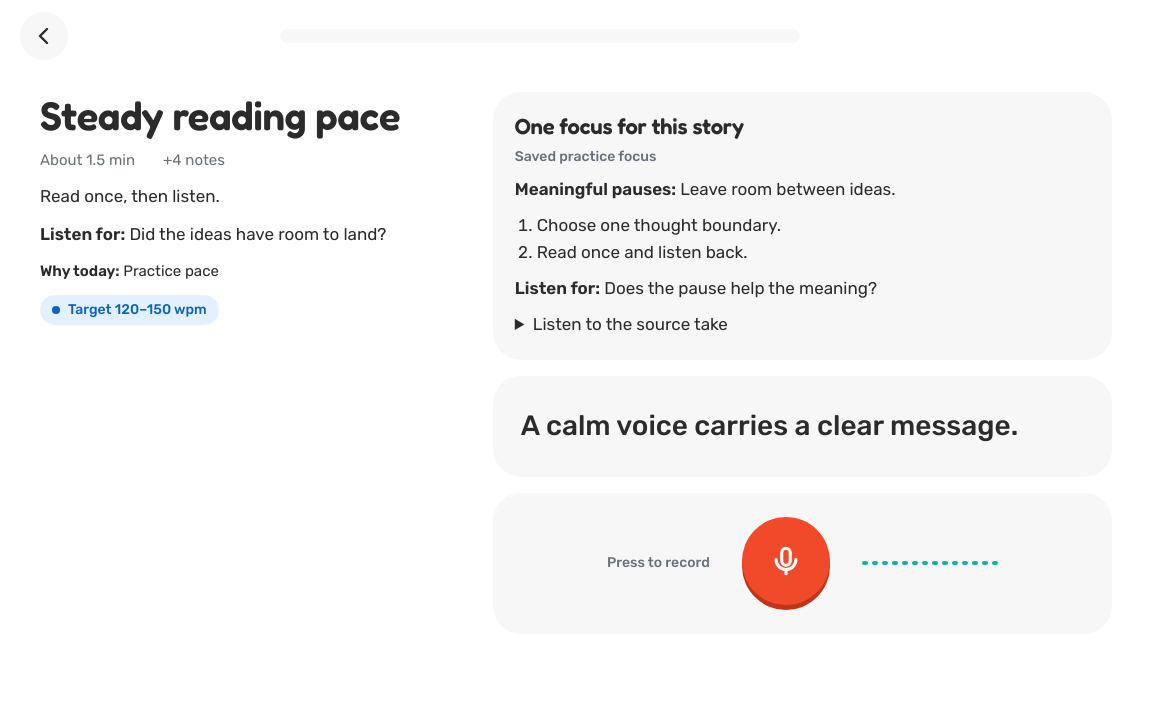
Test case: the focus shown when recording starts stays bound to that take if the active focus changes
This screenshot has width=1152, height=720.
Later steps or results of the test are not shown.
Click the button named "Start recording" at (786, 561), box [742,517,830,605]
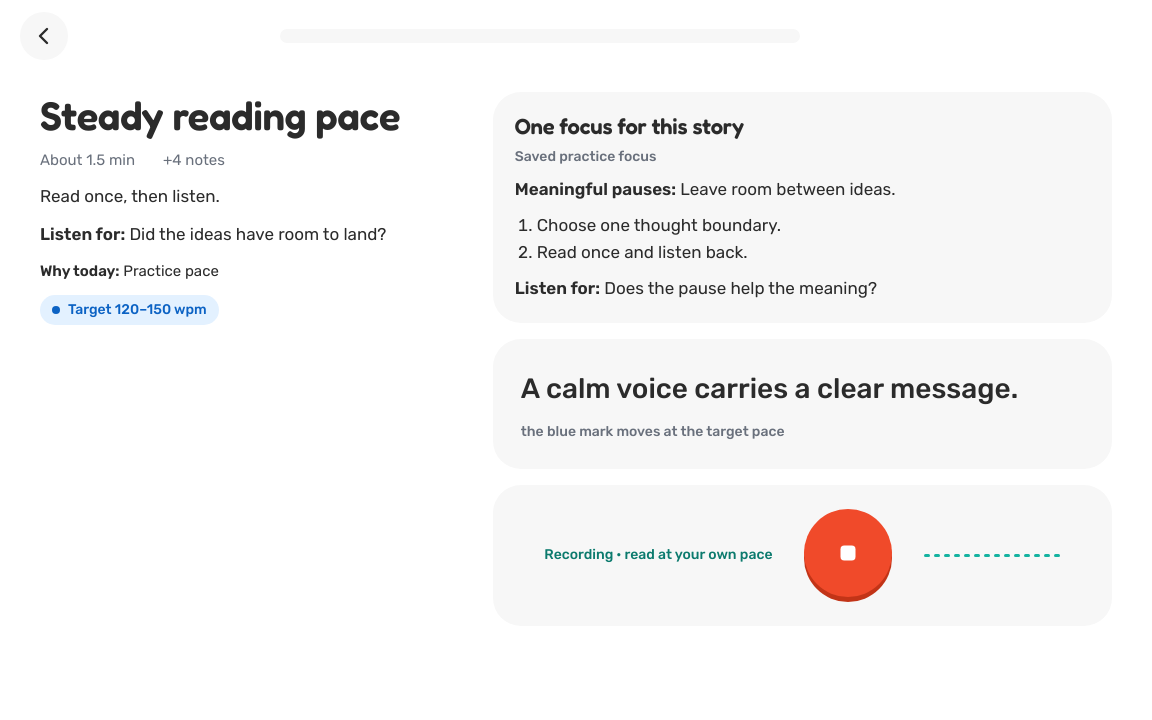
Expected: the button named "Stop recording" is shown, [804,509,892,597]
